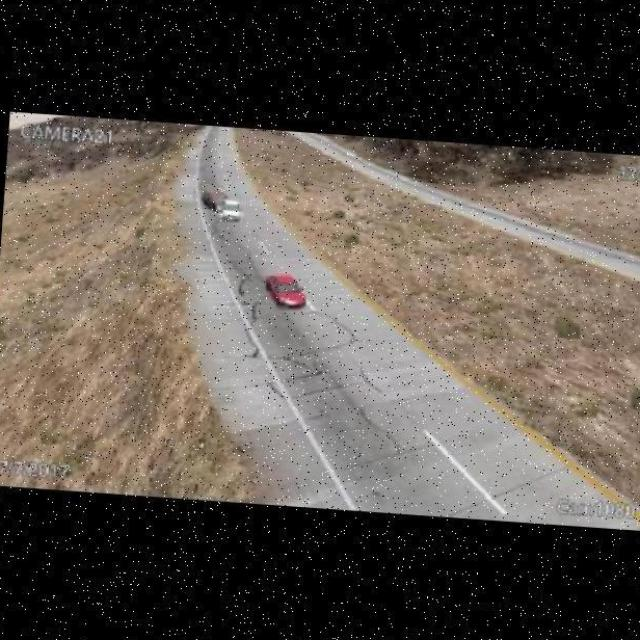accident: (207, 193, 243, 219)
